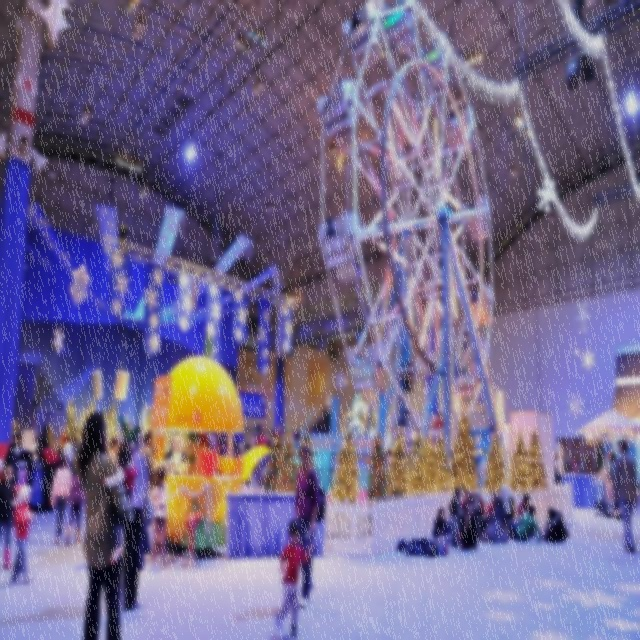pessoa: (72, 408, 136, 638), (165, 420, 312, 478), (120, 427, 158, 612), (273, 512, 324, 638), (294, 443, 328, 611), (109, 436, 140, 567), (610, 436, 640, 554), (8, 480, 38, 587), (320, 84, 360, 156), (48, 451, 74, 544), (147, 462, 169, 568), (32, 444, 62, 514), (0, 461, 17, 572), (64, 468, 86, 548), (503, 502, 542, 546), (464, 486, 490, 543), (482, 492, 510, 544), (127, 423, 159, 468), (139, 426, 159, 486), (540, 506, 570, 544), (458, 500, 479, 554), (1, 431, 21, 486), (319, 204, 340, 256), (54, 426, 82, 464), (448, 486, 466, 541), (346, 8, 371, 46), (393, 400, 415, 440), (608, 449, 621, 514), (592, 495, 624, 521), (432, 506, 449, 544), (429, 402, 448, 433), (38, 422, 52, 463), (516, 490, 532, 524), (627, 466, 638, 515), (61, 433, 75, 471), (382, 438, 395, 466), (108, 434, 120, 464), (570, 448, 582, 476), (458, 486, 470, 514), (486, 491, 498, 518), (552, 450, 560, 490), (560, 447, 570, 472)
